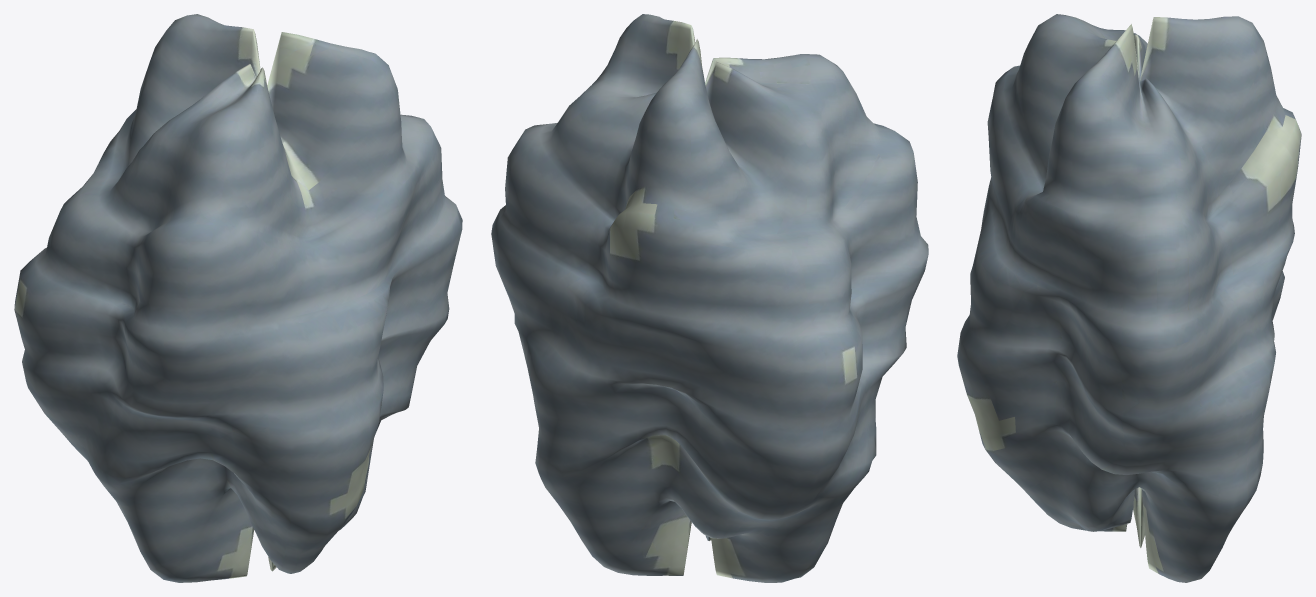
File: rock_b.glb
3 views of the same model, side by side, from view 1: azimuth 30°, elevation 25°; view 2: azimuth 150°, elevation 25°; view 3: azimuth 270°, elevation 25° (orthographic).
Visible parts, largest first — view 1: 18B Rock Formation; view 2: 18B Rock Formation; view 3: 18B Rock Formation.
Boxes of the visible parts, left/top/right/bottom form: 18B Rock Formation: left=14, top=14, right=462, bottom=582; 18B Rock Formation: left=491, top=14, right=928, bottom=582; 18B Rock Formation: left=957, top=14, right=1301, bottom=582.
Size of the model in its own units: 3.48 by 4.56 by 2.61.
Materials: 2 (2 with a texture image).
